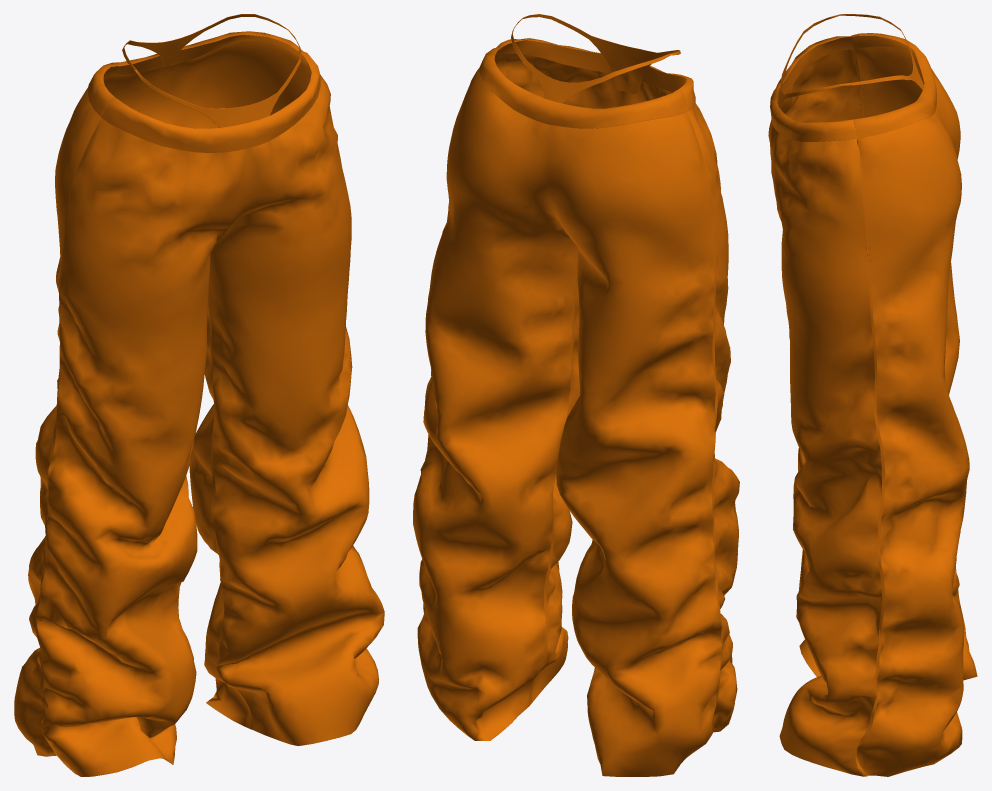
Rendered from calçafem12glb.glb.
3 views of the same model, side by side, from view 1: azimuth 30°, elevation 25°; view 2: azimuth 150°, elevation 25°; view 3: azimuth 270°, elevation 25° (orthographic). The views are drawn at different scales.
Visible parts, largest first — view 1: hash_0F485825.model; view 2: hash_0F485825.model; view 3: hash_0F485825.model.
Boxes of the visible parts, x1,y1,x2,y2 form: hash_0F485825.model: [14, 14, 384, 776]; hash_0F485825.model: [413, 14, 739, 776]; hash_0F485825.model: [768, 14, 977, 776].
Size of the model in its own units: 0.5446 by 1.13 by 0.3196.
